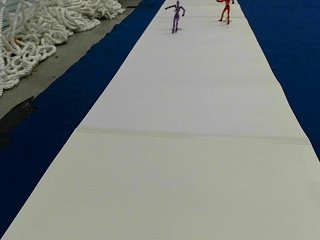pedestrian: (165, 0, 185, 32), (216, 0, 234, 23)
